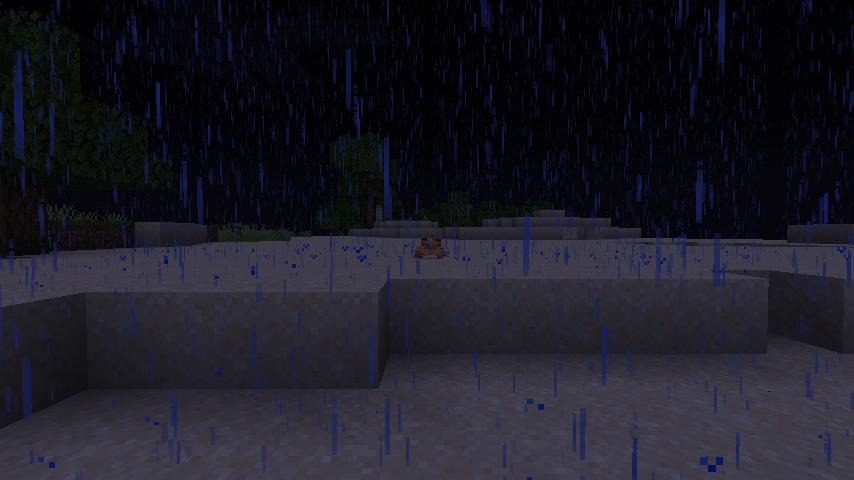frog: (409, 232, 449, 264)
